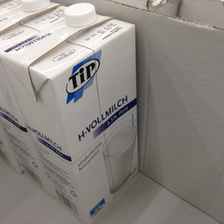milk: (4, 3, 144, 221)
